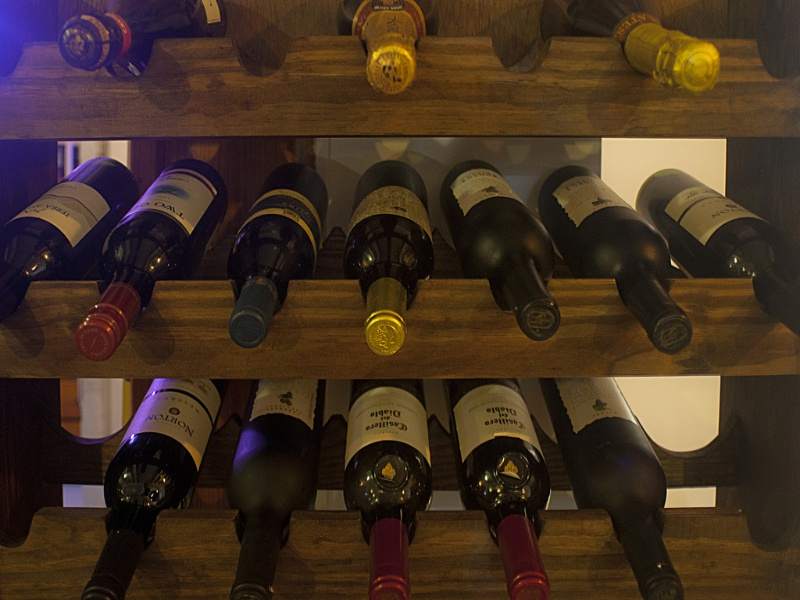wine: (1, 153, 799, 373), (75, 381, 696, 600), (1, 1, 799, 120)
